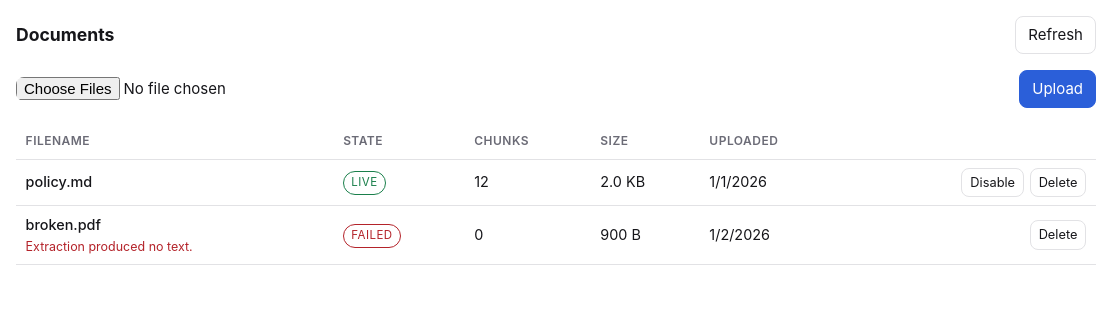
AdminPage › deletes after confirmation
Expected: the text "policy.md" is shown, [26, 173, 92, 190]
Click the button "Delete" in the row of "policy.md" at [1058, 183], box [1030, 168, 1086, 198]
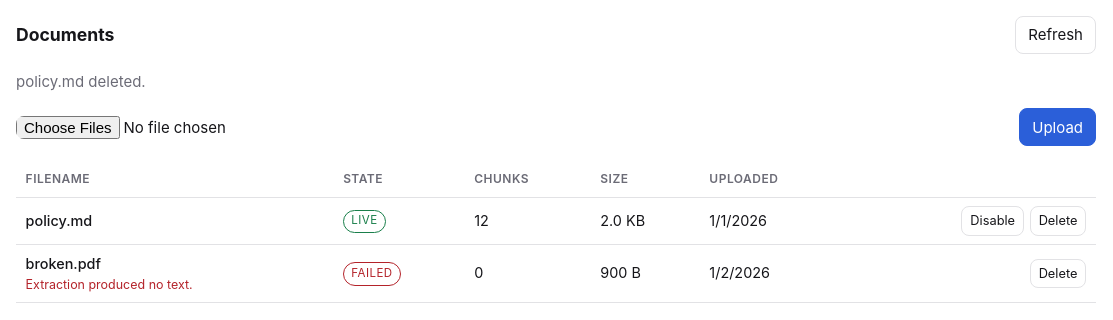
Expected: the text "policy.md deleted." is shown, [16, 72, 146, 91]
